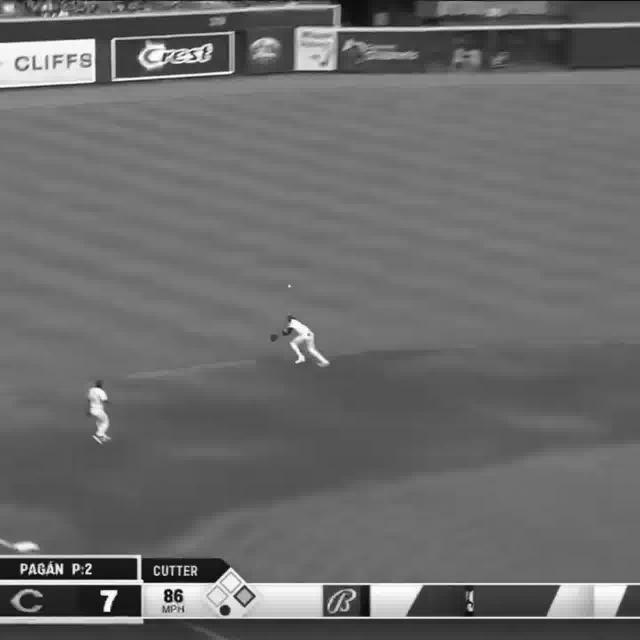base: (15, 542, 48, 557)
baseball: (286, 284, 294, 290)
baseball_glove: (270, 332, 282, 343)
shoe: (94, 432, 114, 447), (317, 359, 332, 367), (295, 358, 305, 366)
